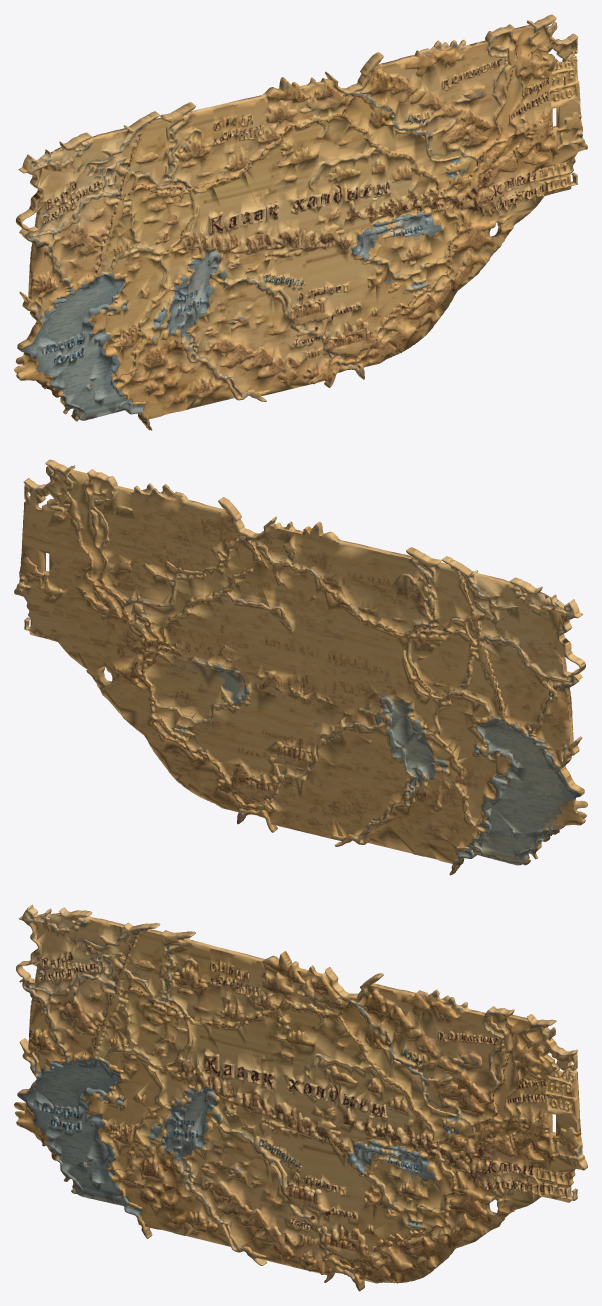
File: aktaban-map.glb
3 renders of one model, top to bottom at view 1: azimuth 30°, elevation 25°; view 2: azimuth 150°, elevation 25°; view 3: azimuth 330°, elevation 25°, orthographic.
Visible parts, largest first — view 1: tripo_node_73a827f7-d905-4212-8b10-9bc046d2fb76; view 2: tripo_node_73a827f7-d905-4212-8b10-9bc046d2fb76; view 3: tripo_node_73a827f7-d905-4212-8b10-9bc046d2fb76.
Part boxes in pixels (left/top/right/bottom): tripo_node_73a827f7-d905-4212-8b10-9bc046d2fb76: left=14, top=14, right=587, bottom=430; tripo_node_73a827f7-d905-4212-8b10-9bc046d2fb76: left=14, top=459, right=587, bottom=875; tripo_node_73a827f7-d905-4212-8b10-9bc046d2fb76: left=14, top=904, right=587, bottom=1291.
Size of the model in its own units: 0.982 by 0.5244 by 0.0206.
Materials: 1 (1 with a texture image).
